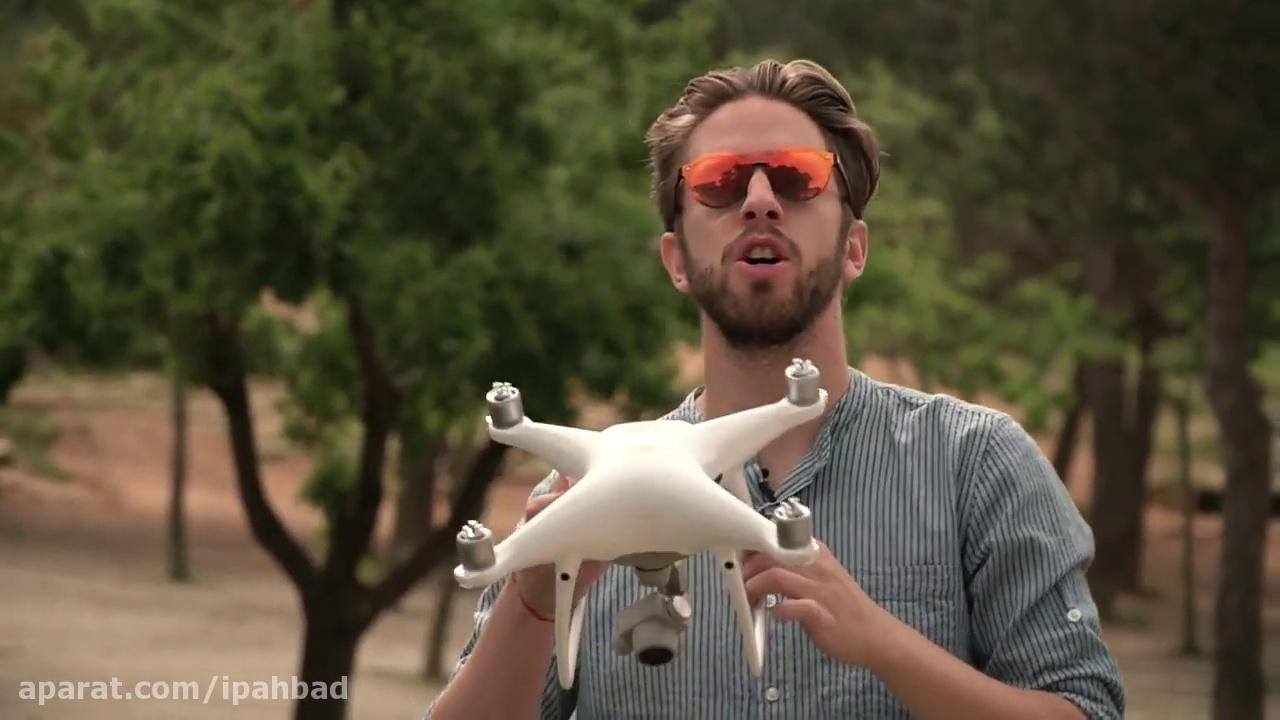drone: (450, 350, 831, 696)
